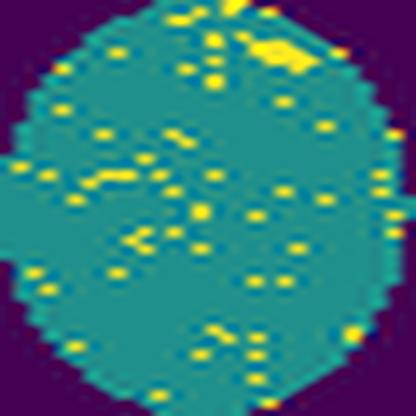Loc: (237, 30, 326, 78)
